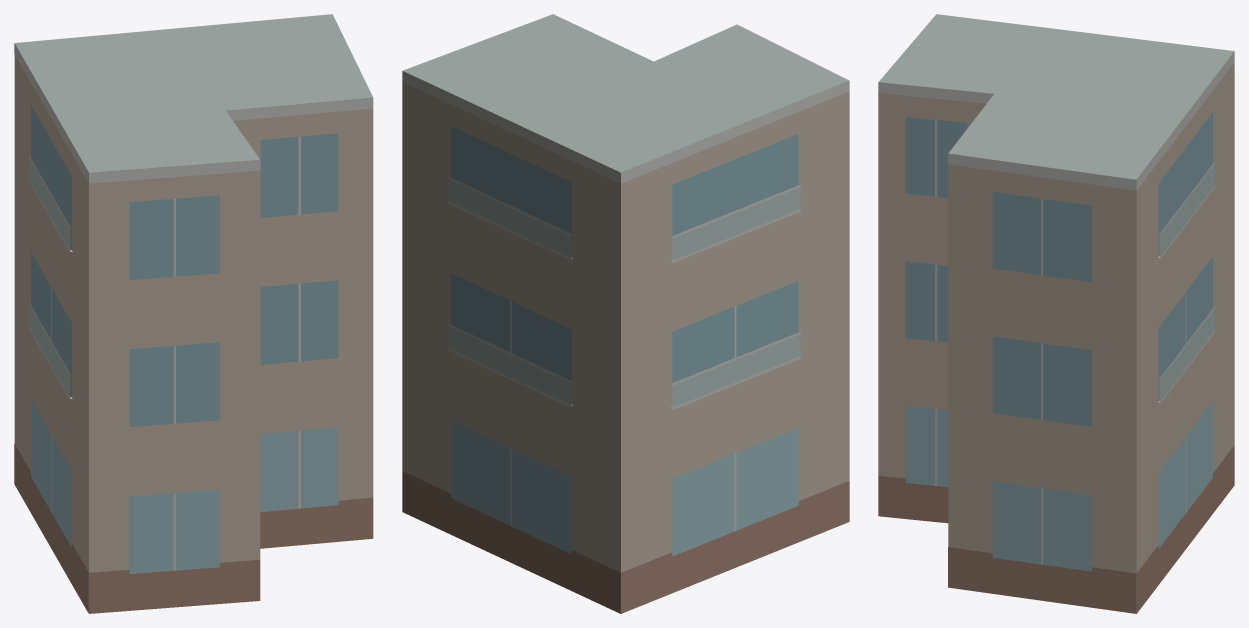
The model's file is survey-upis-33030753.glb.
3 views of the same model, side by side, from view 1: azimuth 30°, elevation 25°; view 2: azimuth 150°, elevation 25°; view 3: azimuth 270°, elevation 25° (orthographic).
Visible parts, largest first — view 1: survey-upis-33030753.tmp; view 2: survey-upis-33030753.tmp; view 3: survey-upis-33030753.tmp.
Boxes of the visible parts, x1,y1,x2,y2 form: survey-upis-33030753.tmp: (14,14,373,613); survey-upis-33030753.tmp: (402,14,849,613); survey-upis-33030753.tmp: (878,14,1234,613).
Bounding box in the file's own units: 8.04 × 9.8 × 7.3.
